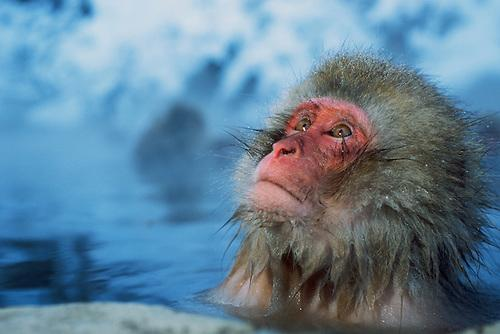monkey: (192, 55, 500, 334)
